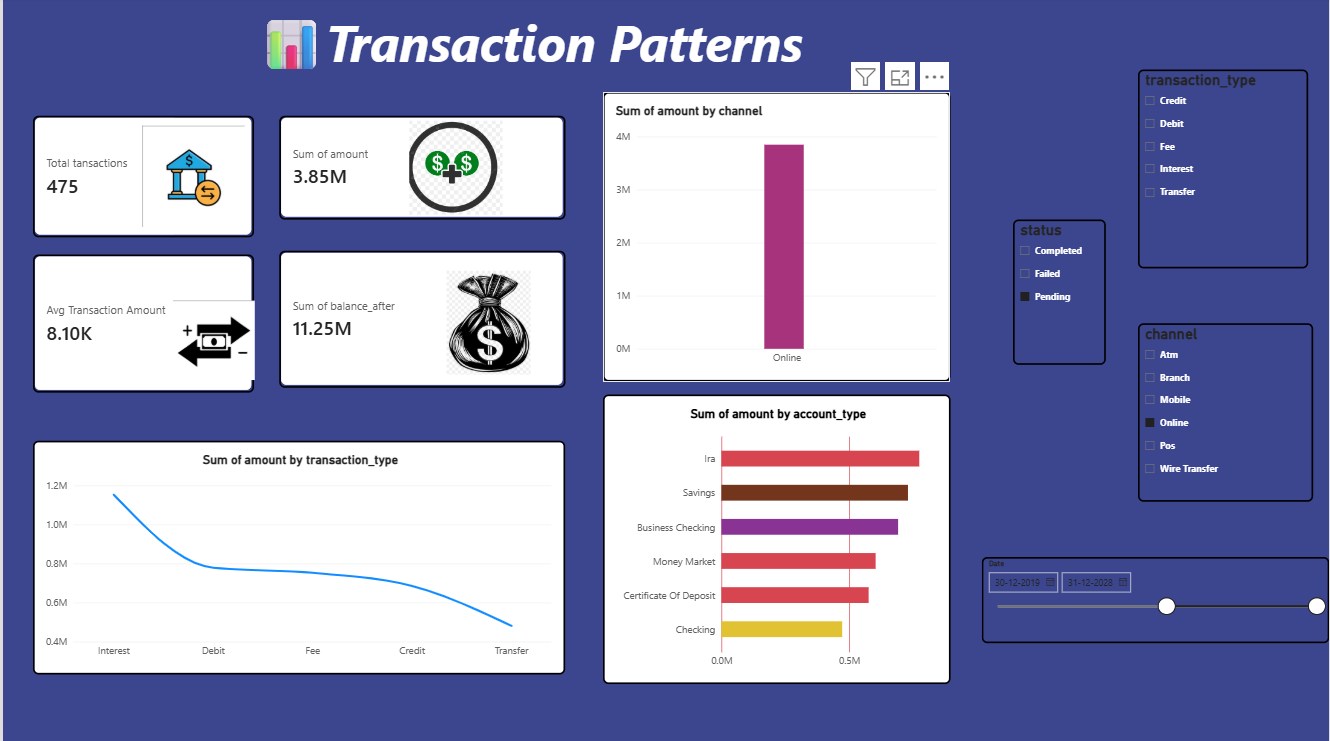

What the dashboard file says about the page in this screenshot:
{"tool":"powerbi","page":{"name":"  📊Transaction Patterns ","canvas":[1920,1080],"ordinal":2},"visuals":[{"type":"textbox","box":[250,16,1239.6,121.2],"z":0},{"type":"cardVisual","fields":{"Data":["Sum(transactions(1).amount)"]},"box":[400,172,414,150],"z":1000},{"type":"cardVisual","fields":{"Data":["Sum(transactions(1).balance_after)"]},"box":[400,368,414,198],"z":2000},{"type":"cardVisual","fields":{"Data":["accounts.Avg Transaction Amount"]},"box":[44,372,320,200],"z":3000},{"type":"cardVisual","fields":{"Data":["accounts.Total tansactions"]},"box":[44,172,320,176],"z":4000},{"type":"lineChart","fields":{"Category":["transactions(1).transaction_type"],"Y":["Sum(transactions(1).amount)"]},"box":[44,642,770,338],"z":5000},{"type":"columnChart","fields":{"Category":["transactions(1).channel"],"Y":["Sum(transactions(1).amount)"]},"box":[868,138,503,419],"z":6000},{"type":"clusteredBarChart","fields":{"Category":["accounts.account_type"],"Y":["Sum(transactions(1).amount)"]},"box":[868,576,503,419],"z":7000},{"type":"slicer","fields":{"Values":["date_table.Date"]},"box":[1417,810.7,503.1,124.9],"z":8000},{"type":"slicer","fields":{"Values":["transactions(1).transaction_type"]},"box":[1643.2,105,246.1,287.7],"z":9000},{"type":"slicer","fields":{"Values":["transactions(1).channel"]},"box":[1643.2,472.3,253.4,258.8],"z":10000},{"type":"slicer","fields":{"Values":["transactions(1).status"]},"box":[1462,322,134,210],"z":11000},{"type":"image","box":[200,186,150,146],"z":12000},{"type":"image","box":[246,436,118,122],"z":13000},{"type":"image","box":[580,180,150,136],"z":14000},{"type":"image","box":[628,396,150,150],"z":15000}]}

Visuals, with their boxes in screenshot pixels (x1, y1, x2, y2), scaled from the page's 1920x1080 canvas onto the 1330x741 screenshot:
textbox: [173,11,1032,94]
cardVisual - Sum(transactions(1).amount): [277,118,564,221]
cardVisual - Sum(transactions(1).balance_after): [277,252,564,388]
cardVisual - accounts.Avg Transaction Amount: [30,255,252,392]
cardVisual - accounts.Total tansactions: [30,118,252,239]
lineChart - transactions(1).transaction_type x Sum(transactions(1).amount): [30,440,564,672]
columnChart - transactions(1).channel x Sum(transactions(1).amount): [601,95,950,382]
clusteredBarChart - accounts.account_type x Sum(transactions(1).amount): [601,395,950,683]
slicer - date_table.Date: [982,556,1329,642]
slicer - transactions(1).transaction_type: [1138,72,1309,269]
slicer - transactions(1).channel: [1138,324,1314,502]
slicer - transactions(1).status: [1013,221,1106,365]
image: [139,128,242,228]
image: [170,299,252,383]
image: [402,124,506,217]
image: [435,272,539,375]
